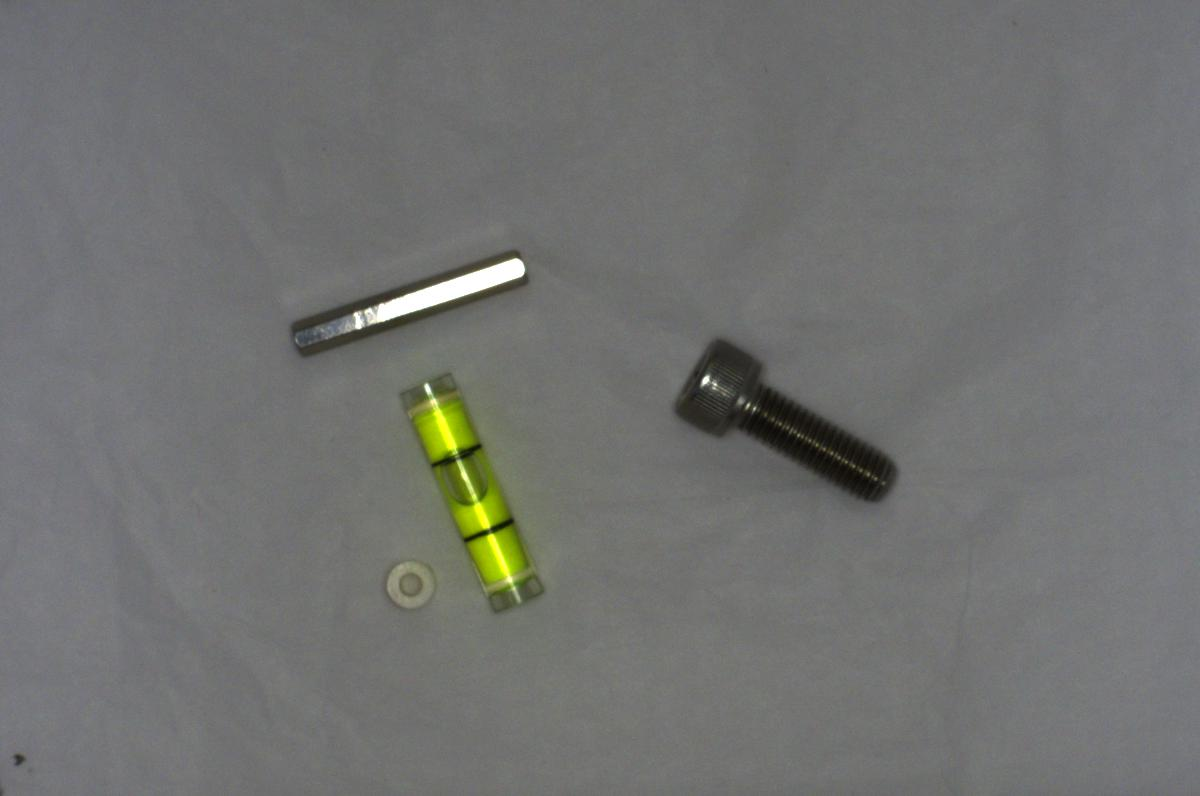Double hexagonal column: (291, 242, 532, 362)
Hexagon screw: (668, 338, 901, 507)
Horizontal bubble: (397, 365, 550, 621)
Plastic cushion pillar: (381, 550, 446, 616)
